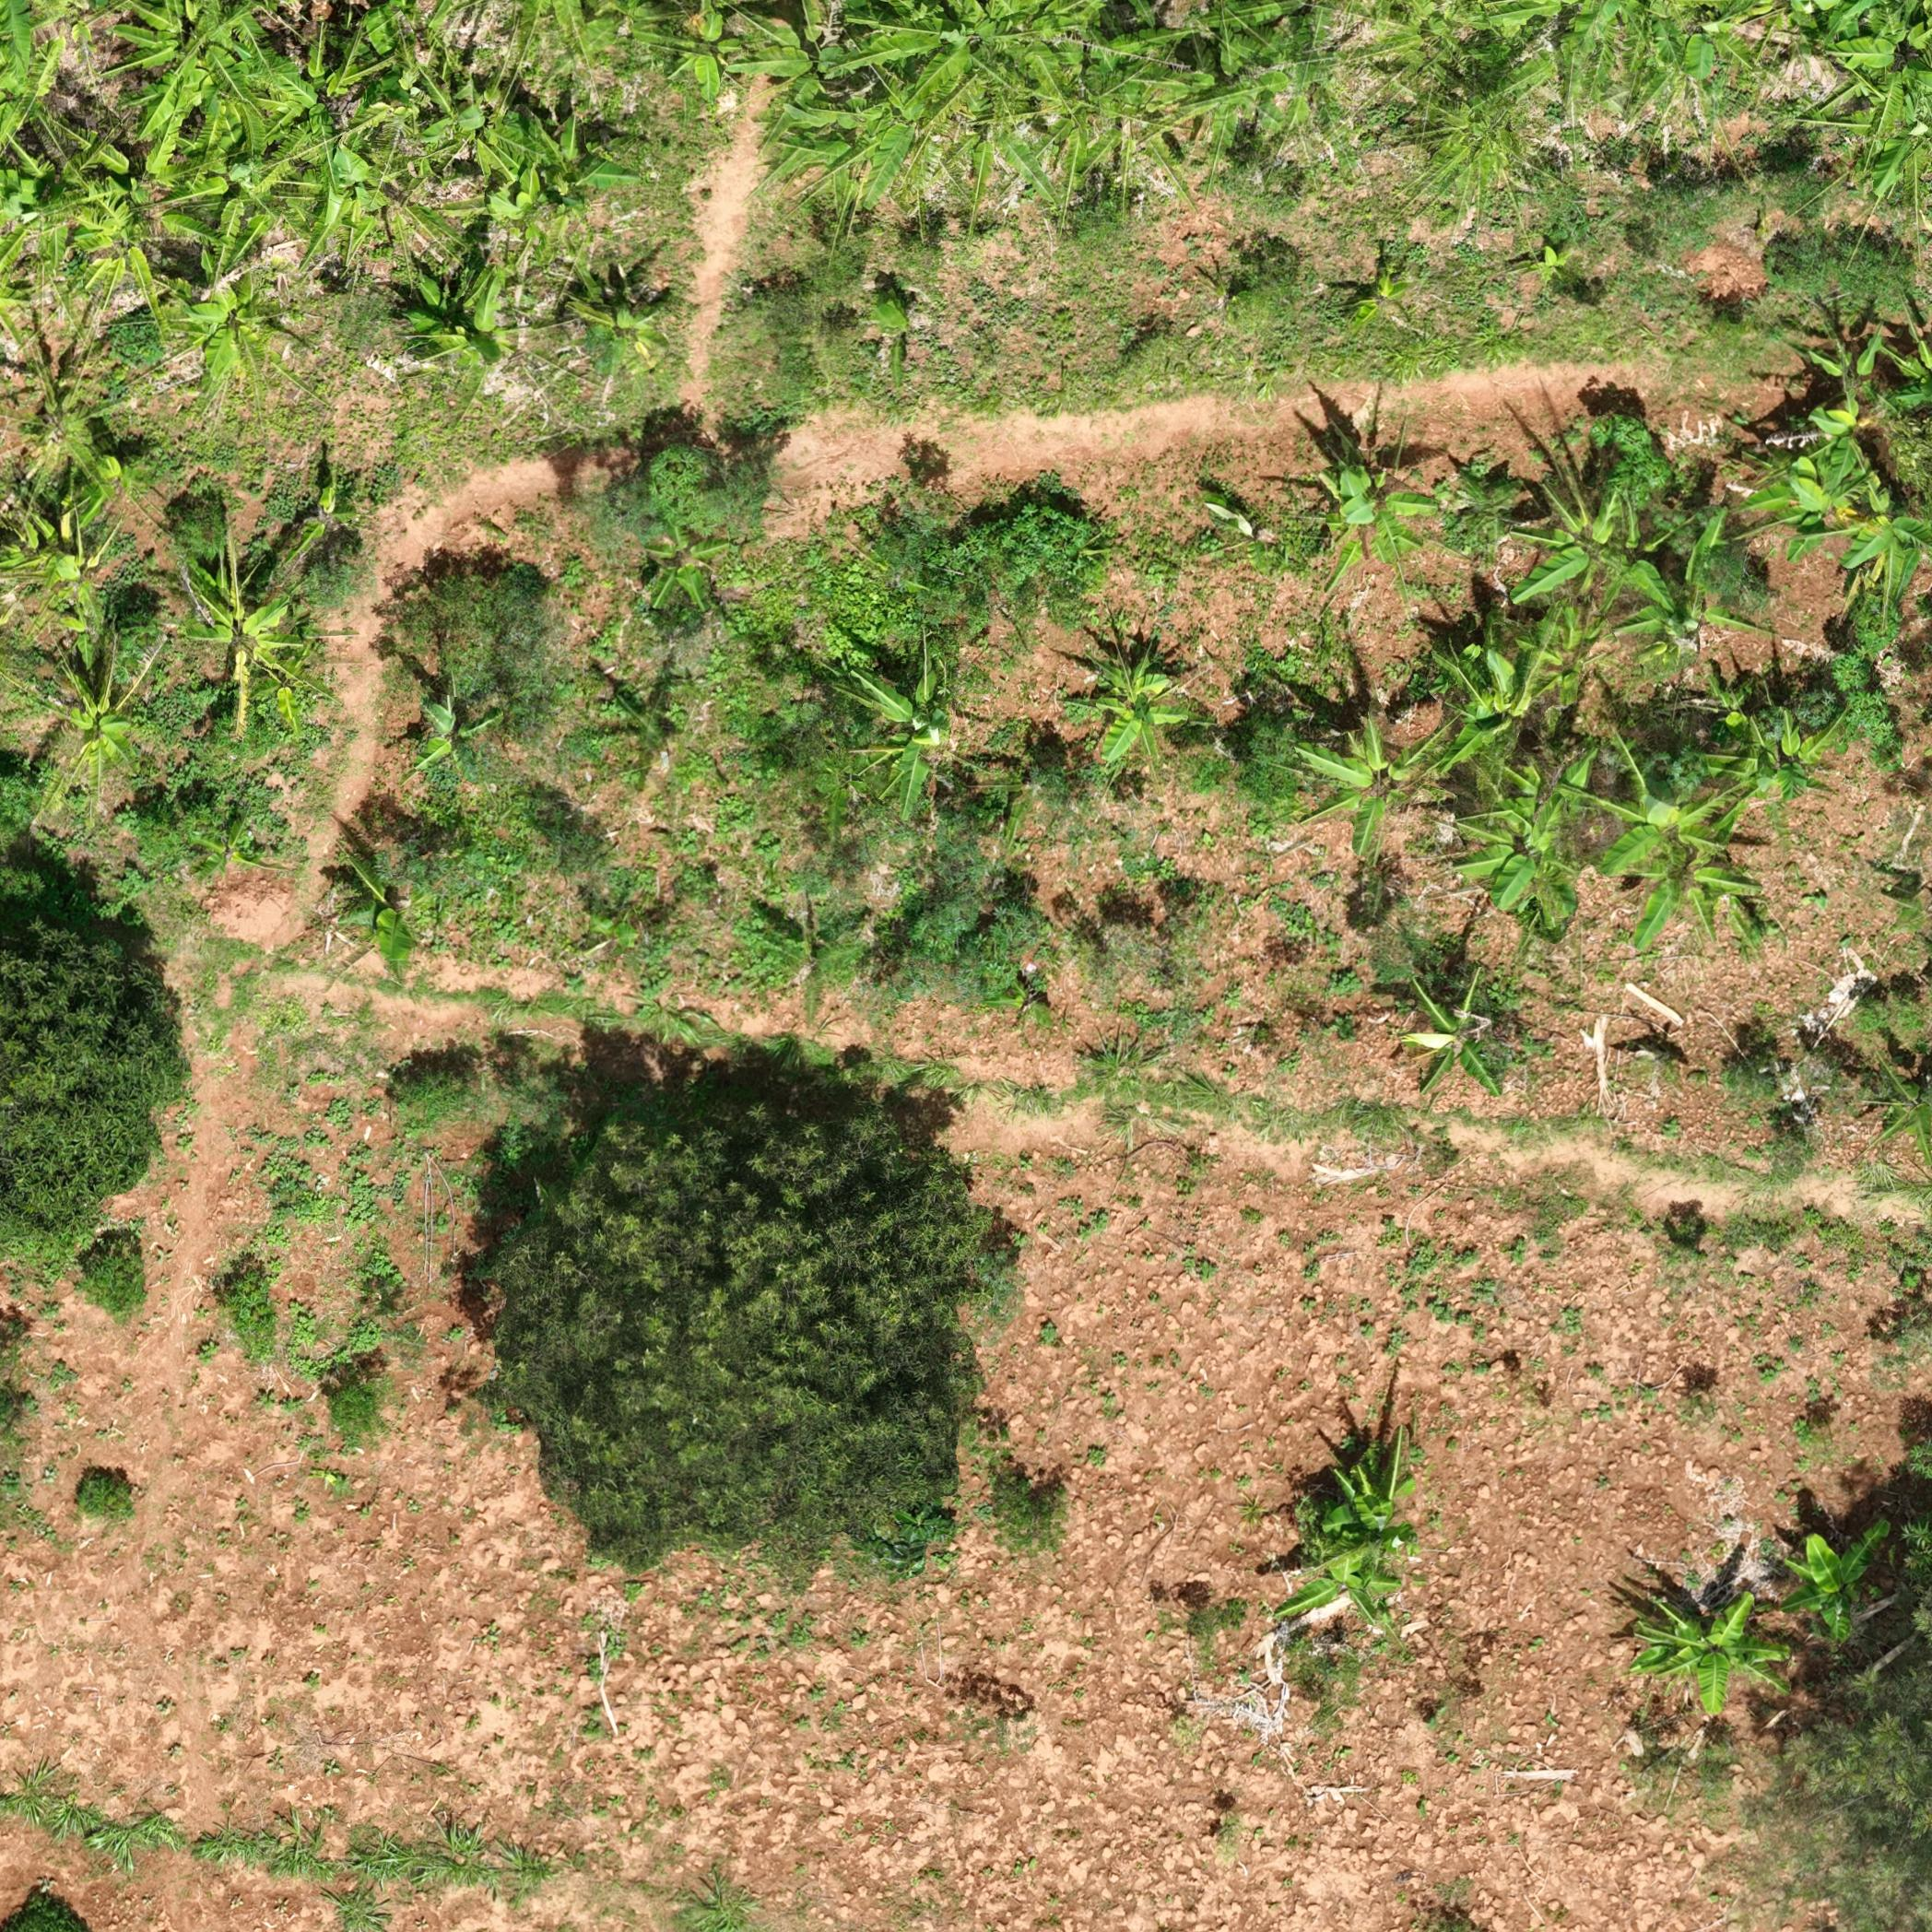Banana: (828, 644, 1028, 826), (1614, 1559, 1810, 1737), (1044, 610, 1219, 791), (1555, 731, 1766, 879), (7, 635, 168, 824), (1286, 419, 1451, 596), (157, 538, 334, 699), (1253, 1527, 1447, 1672), (1499, 458, 1679, 612), (104, 4, 297, 147), (1748, 1497, 1905, 1670), (1389, 966, 1541, 1127), (1771, 287, 1918, 439), (53, 147, 195, 299), (1279, 699, 1445, 828), (7, 481, 133, 649), (326, 837, 472, 978), (403, 46, 543, 189), (1725, 456, 1882, 582), (4, 126, 96, 338), (740, 888, 885, 1021), (1778, 11, 1930, 133), (734, 5, 890, 103), (839, 267, 955, 393), (520, 104, 644, 221), (258, 467, 382, 580), (1332, 255, 1447, 357), (391, 251, 476, 389), (398, 688, 510, 791), (632, 518, 731, 610), (1201, 492, 1299, 577), (1491, 235, 1603, 295), (577, 911, 649, 971)
